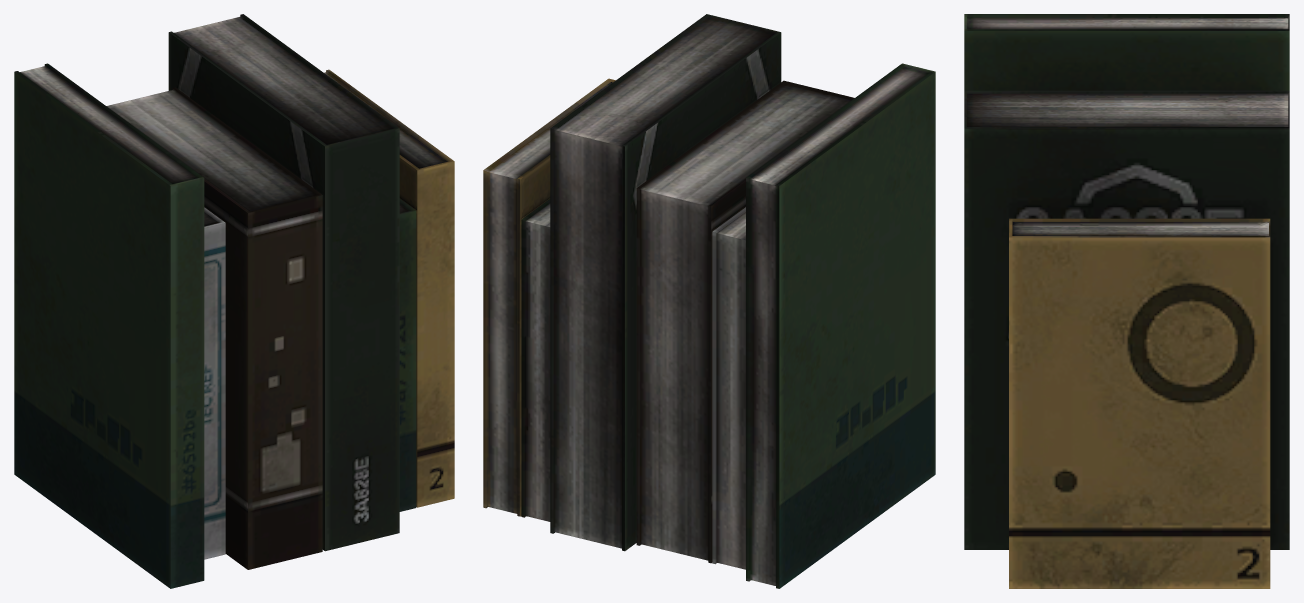
The model's file is book_row05.dae.
3 views of the same model, side by side, from view 1: azimuth 30°, elevation 25°; view 2: azimuth 150°, elevation 25°; view 3: azimuth 270°, elevation 25° (orthographic). The views are drawn at different scales.
Parts seen in each view (by area): view 1: book_row05; view 2: book_row05; view 3: book_row05.
Boxes of the visible parts, <box> form: book_row05: <box>14,14,454,588</box>; book_row05: <box>483,14,935,588</box>; book_row05: <box>964,14,1289,588</box>.
Size of the model in its own units: 0.2748 by 0.3478 by 0.2435.
